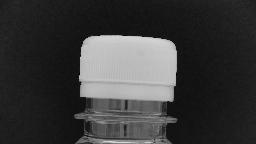Loose Cap: (68, 77, 182, 125)
